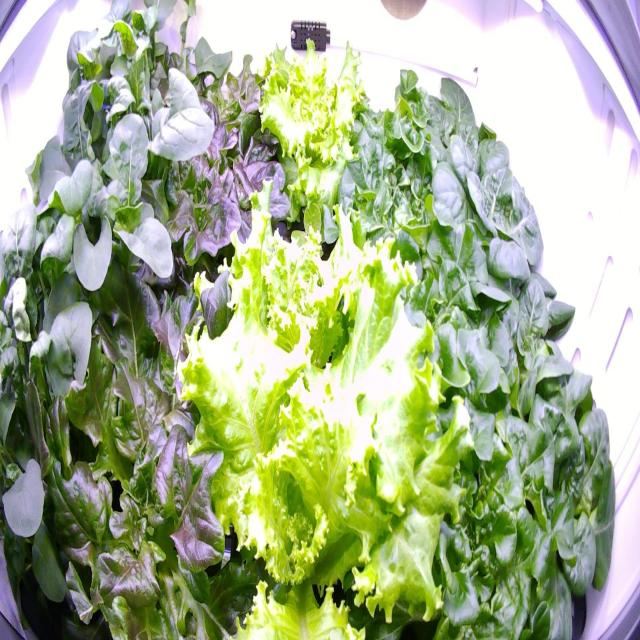young: (506, 379, 620, 637), (471, 266, 591, 453), (440, 126, 552, 308), (404, 67, 507, 199)
